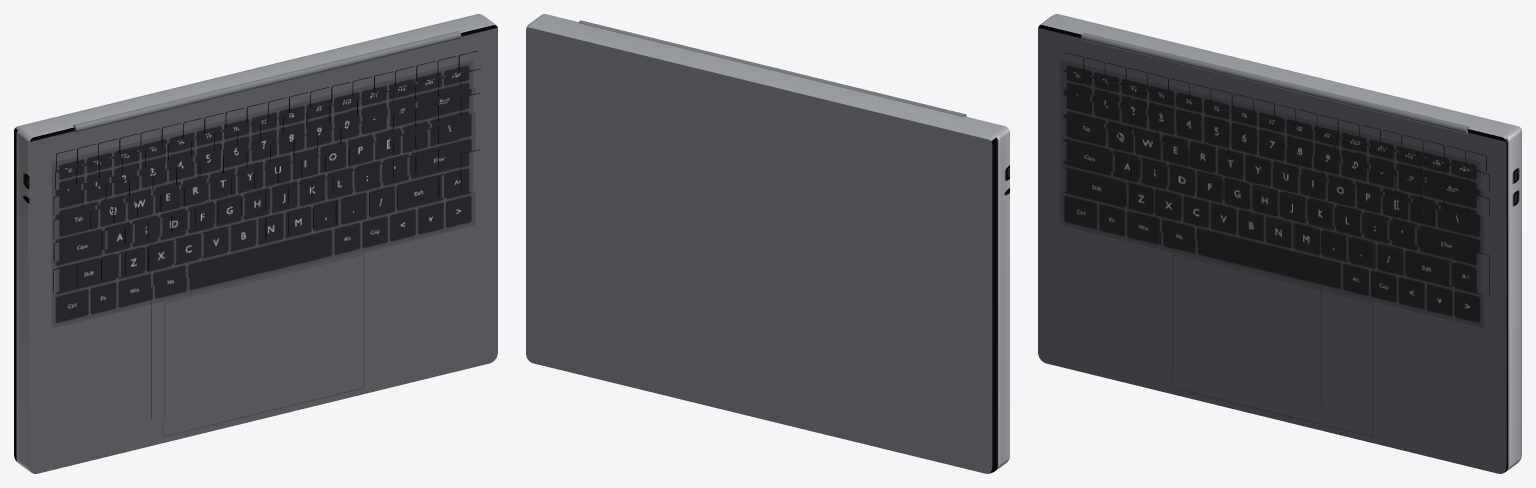
The model's file is body.obj.
The picture shows the model from 3 angles, left to right: view 1: azimuth 30°, elevation 25°; view 2: azimuth 150°, elevation 25°; view 3: azimuth 330°, elevation 25°; orthographic projection.
Visible parts, largest first — view 1: deck, keys.001, base, keys, base.002, hinge; view 2: base.003, base, base.002, hinge; view 3: deck, keys.001, base, keys, base.001, hinge.
Boxes of the visible parts, x1,y1,x2,y2 form: deck: (29,25,497,473); keys.001: (54,51,481,292); base: (15,14,496,473); keys: (53,51,480,292); base.002: (14,128,31,472); hinge: (73,31,461,132); base.003: (526,27,992,473); base: (527,14,1008,473); base.002: (990,128,1009,472); hinge: (578,20,966,116); deck: (1038,25,1506,473); keys.001: (1061,53,1488,294); base: (1039,14,1520,473); keys: (1062,52,1489,294); base.001: (1504,128,1521,472); hinge: (1081,33,1469,133).
Size of the model in its own units: 363 by 251 by 24.65.
